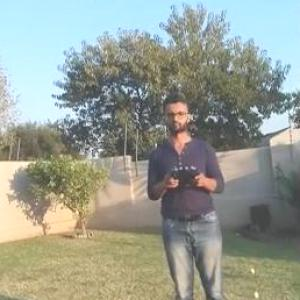follow: (141, 86, 235, 299)
